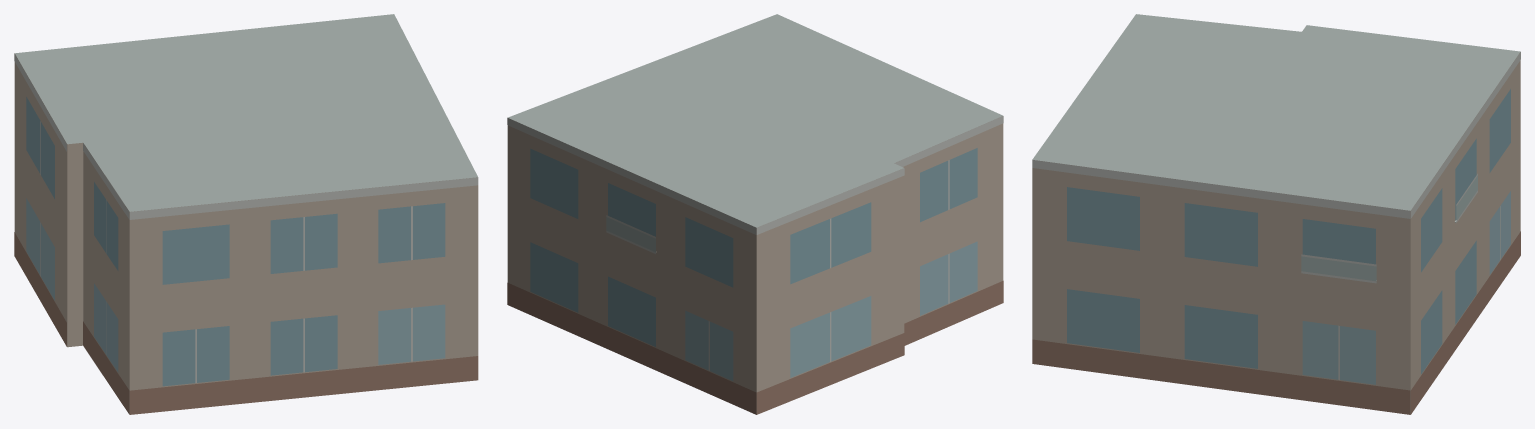
Rendered from survey-upis-32824593.glb.
3 views of the same model, side by side, from view 1: azimuth 30°, elevation 25°; view 2: azimuth 150°, elevation 25°; view 3: azimuth 270°, elevation 25° (orthographic). The views are drawn at different scales.
Visible parts, largest first — view 1: survey-upis-32824593.tmp; view 2: survey-upis-32824593.tmp; view 3: survey-upis-32824593.tmp.
Boxes of the visible parts, left/top/right/bottom form: survey-upis-32824593.tmp: left=14, top=14, right=478, bottom=414; survey-upis-32824593.tmp: left=507, top=14, right=1003, bottom=414; survey-upis-32824593.tmp: left=1032, top=14, right=1520, bottom=414.
Bounding box in the file's own units: 12.63 × 6.1 × 13.25.
